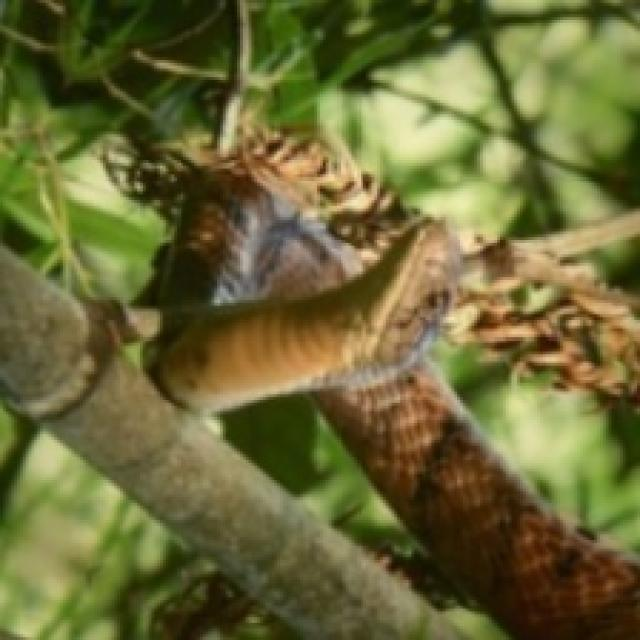king cobra: (146, 131, 637, 637), (146, 131, 457, 409)
